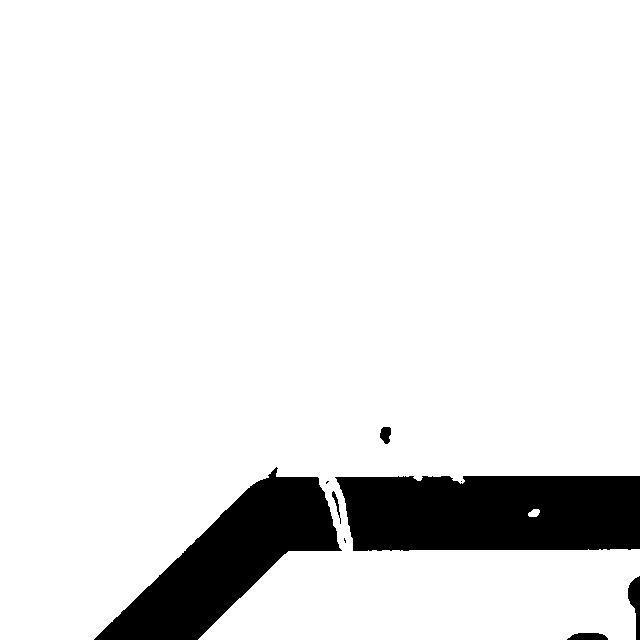copper: (370, 417, 400, 453)
mousebite: (440, 464, 474, 493), (403, 466, 432, 490)
open: (307, 462, 362, 564)
pin-hole: (518, 499, 549, 526)
spur: (258, 457, 287, 488)
